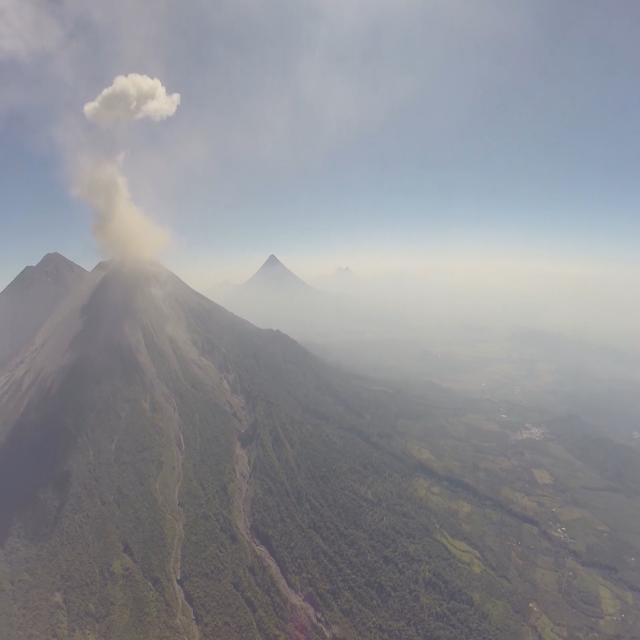Plume: (70, 145, 180, 268), (84, 65, 188, 131)
